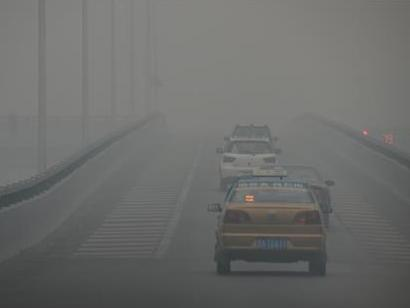car: (204, 166, 328, 277), (242, 161, 336, 233), (216, 137, 283, 190), (223, 120, 277, 157)
